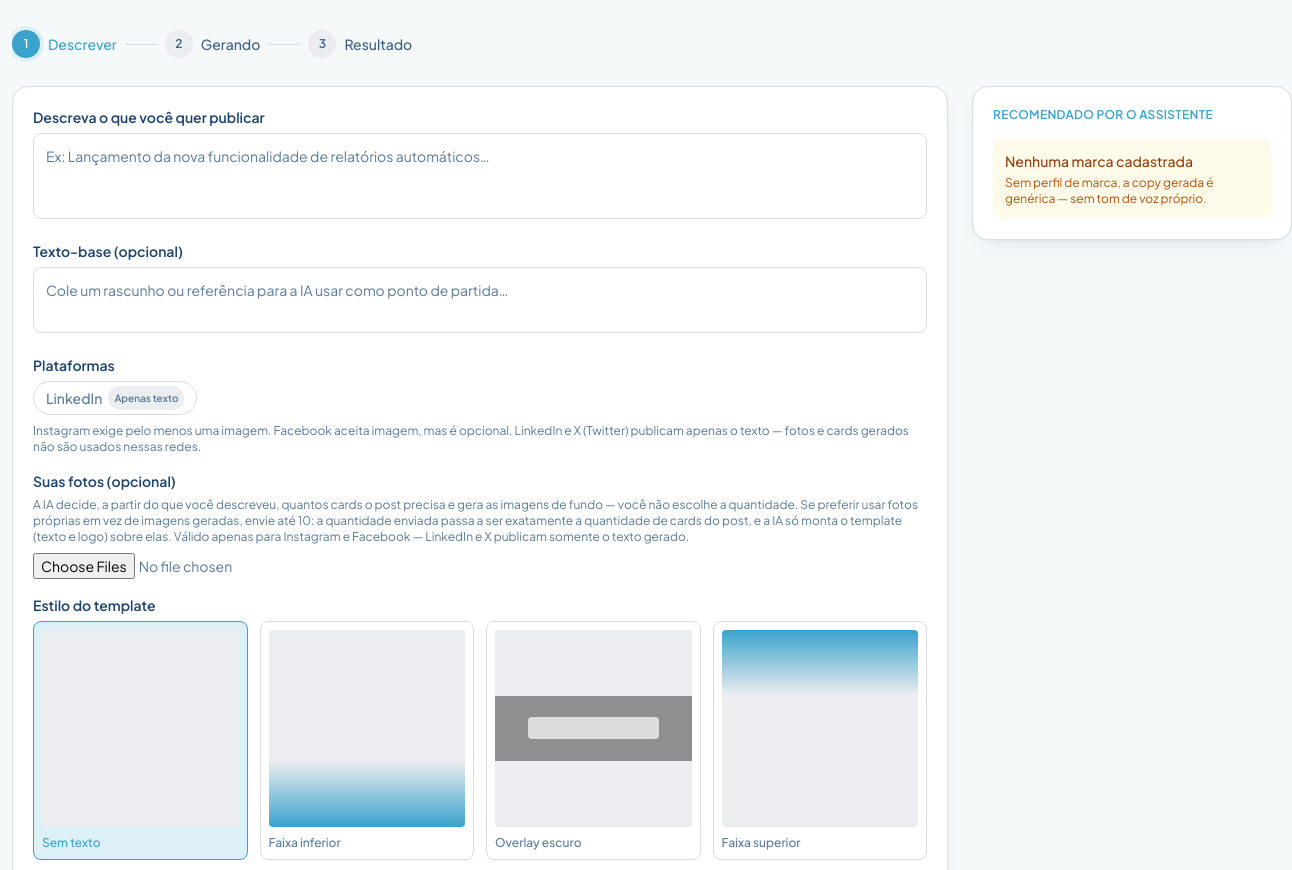
GenerateContentPage › mantém "Gerar Conteúdo" desabilitado até descrição e plataforma serem preenchidas
The image size is (1292, 870).
In the text box with placeholder "Lançamento da nova funcionalidade": (480, 176) [33,133,927,219], type "Lançamento X"
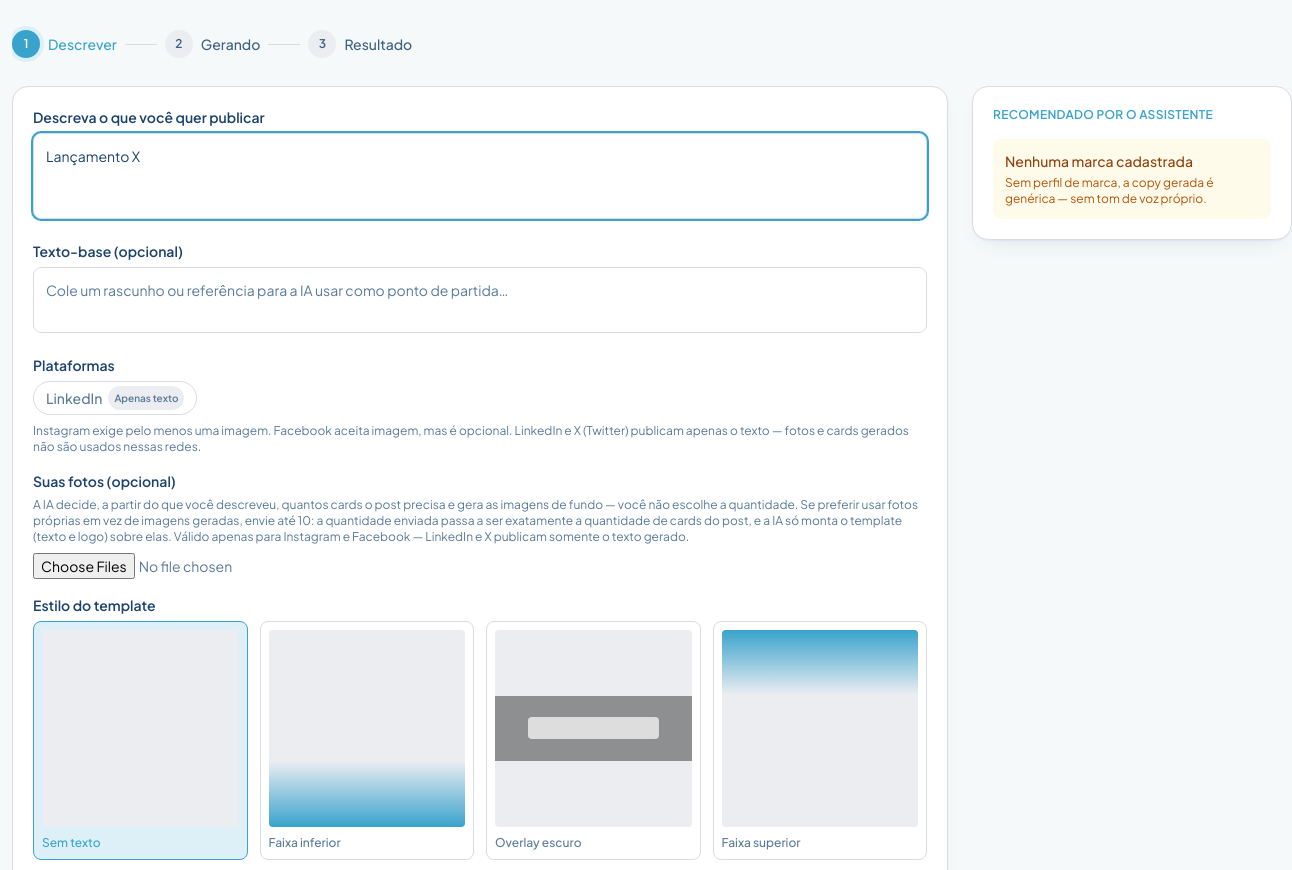
Click the button "LinkedIn Apenas texto": (115, 398) [33,381,198,415]
(page scrolled)
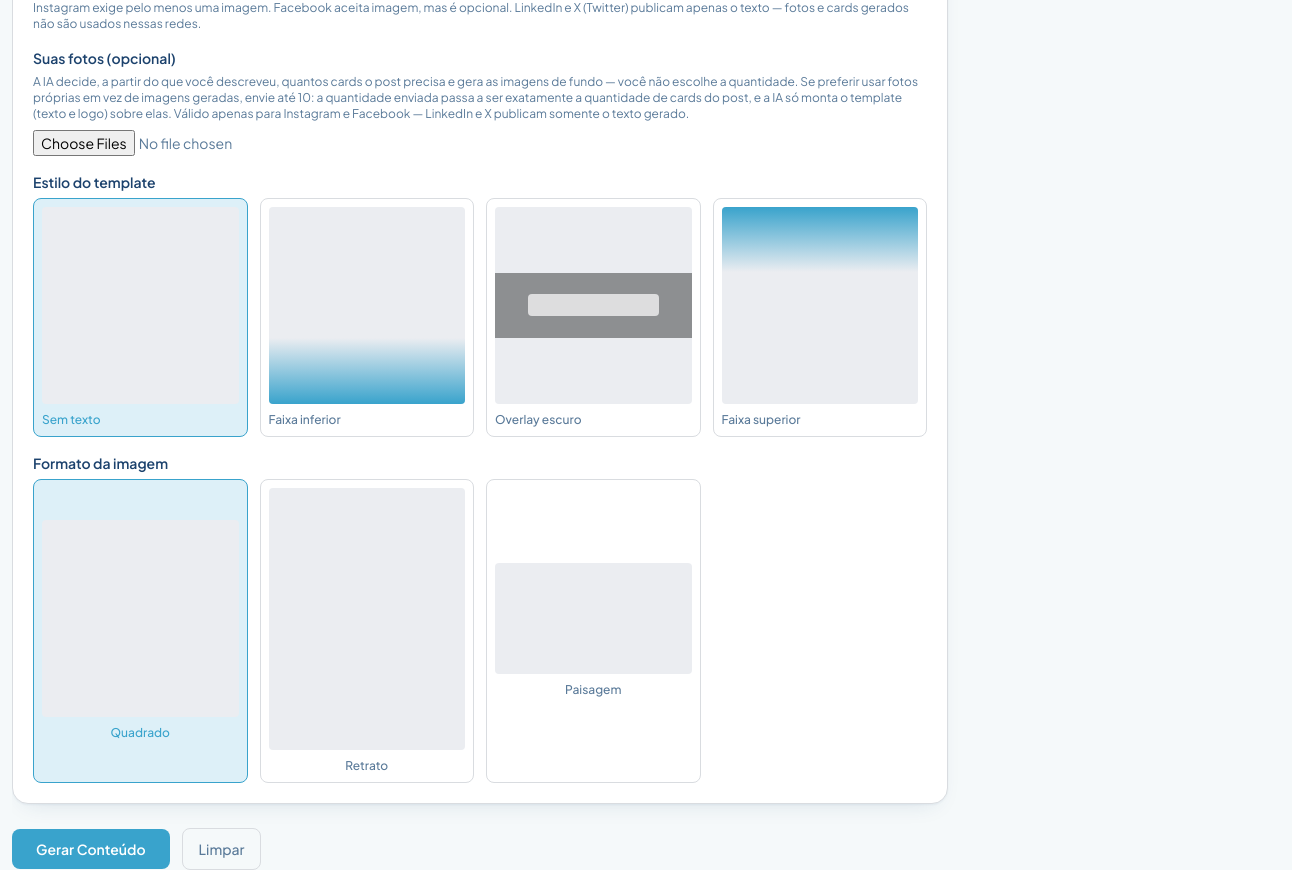
Expected: the button "Gerar Conteúdo" is enabled, [12,828,170,868]
